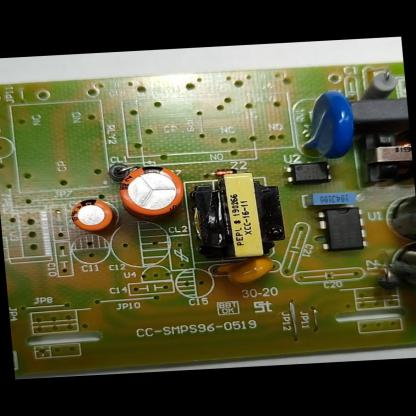Cap1: (115, 163, 187, 219)
Cap2: (67, 197, 115, 233)
Cap3: (382, 184, 416, 245)
Cap4: (388, 241, 416, 302)
MOSFET: (319, 207, 366, 251)
Mov: (295, 88, 352, 160)
Resistor: (358, 68, 402, 100)
Transformer: (190, 170, 289, 263), (355, 125, 414, 188)
